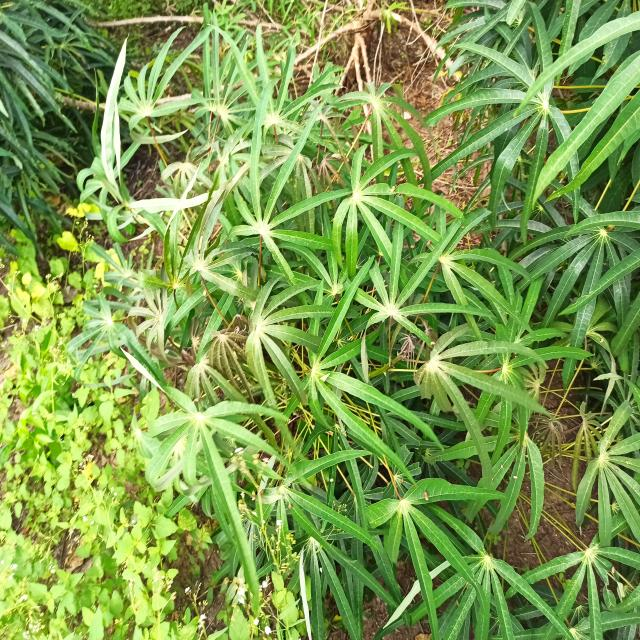Maleza: (0, 514, 210, 636), (2, 263, 75, 477), (0, 403, 124, 523)
Mosca: (421, 488, 434, 503), (324, 475, 336, 488), (286, 501, 294, 511)
